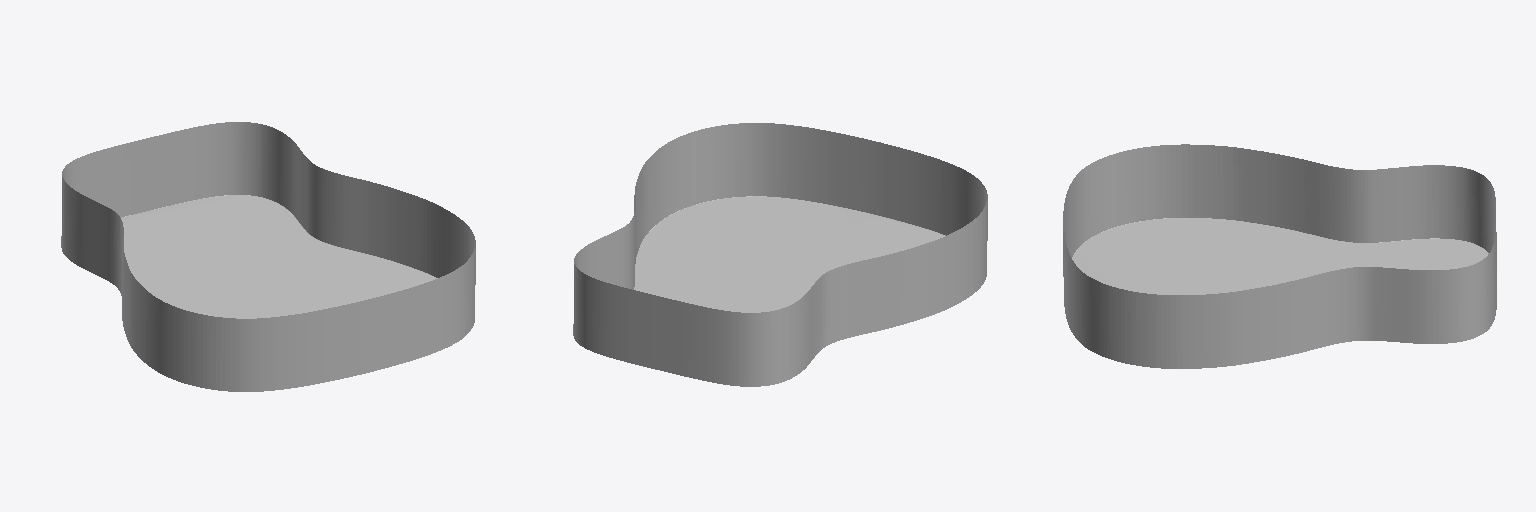
The model's file is cassa.obj.
The picture shows the model from 3 angles: view 1: azimuth 30°, elevation 25°; view 2: azimuth 150°, elevation 25°; view 3: azimuth 270°, elevation 25°; orthographic projection.
Parts seen in each view (by area): view 1: cassa; view 2: cassa; view 3: cassa.
Part boxes in pixels (bbox=[...]): cassa: bbox=[61, 122, 475, 391]; cassa: bbox=[573, 123, 987, 386]; cassa: bbox=[1063, 144, 1496, 368].
Bounding box in the file's own units: 0.4262 × 0.102 × 0.5181.